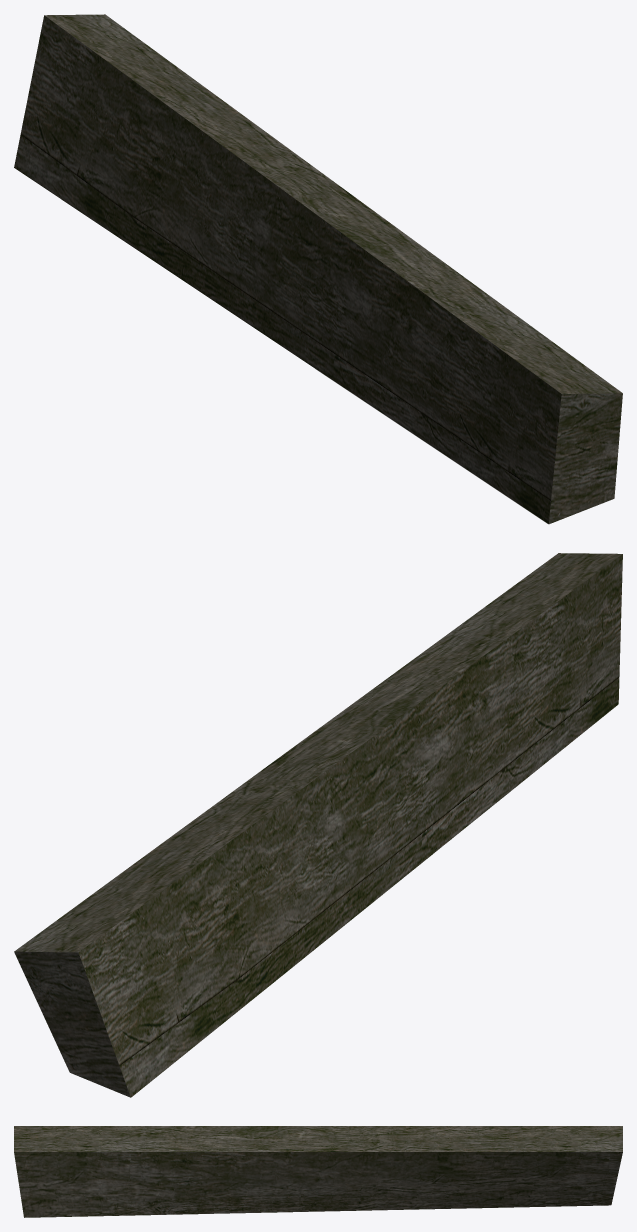
The model's file is TI_Plank_S_03.fbx.
3 views of the same model, one above another, from view 1: azimuth 30°, elevation 25°; view 2: azimuth 150°, elevation 25°; view 3: azimuth 270°, elevation 25° (orthographic). The views are drawn at different scales.
Parts seen in each view (by area): view 1: TI_Plank_S_03; view 2: TI_Plank_S_03; view 3: TI_Plank_S_03.
Boxes of the visible parts, x1=… form: TI_Plank_S_03: x1=14, y1=14, x2=622, y2=524; TI_Plank_S_03: x1=14, y1=553, x2=622, y2=1097; TI_Plank_S_03: x1=14, y1=1126, x2=622, y2=1217.
Bounding box in the file's own units: 0.1618 × 0.207 × 1.43.
